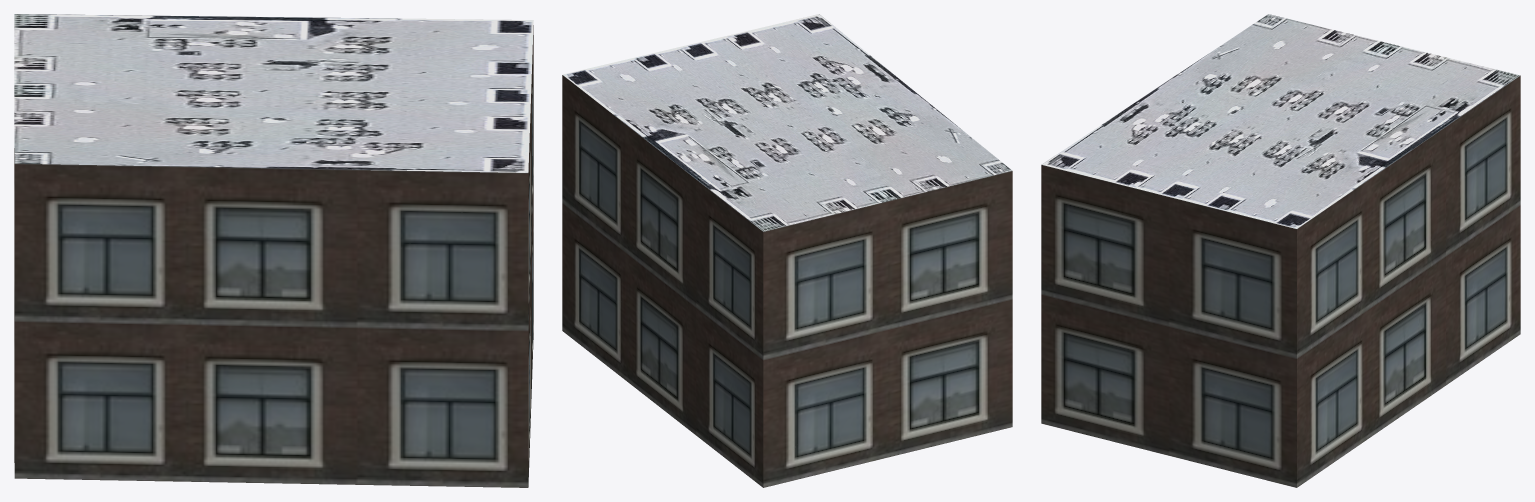
Rendered from ResTex__249.fbx.
The picture shows the model from 3 angles, left to right: view 1: azimuth 30°, elevation 25°; view 2: azimuth 150°, elevation 25°; view 3: azimuth 270°, elevation 25°; orthographic projection. The views are drawn at different scales.
Visible parts, largest first — view 1: CityEngineMaterial_16_m, CityEngineMaterial_15_m; view 2: CityEngineMaterial_16_m, CityEngineMaterial_15_m; view 3: CityEngineMaterial_16_m, CityEngineMaterial_15_m.
Boxes of the visible parts, x1,y1,x2,y2 form: CityEngineMaterial_16_m: (14, 25, 533, 487); CityEngineMaterial_15_m: (14, 14, 533, 172); CityEngineMaterial_16_m: (562, 75, 1012, 487); CityEngineMaterial_15_m: (562, 14, 1012, 231); CityEngineMaterial_16_m: (1041, 75, 1520, 487); CityEngineMaterial_15_m: (1041, 14, 1519, 228).
Bounding box in the file's own units: 10.7 × 6 × 10.07.
2 materials, 2 textured.
